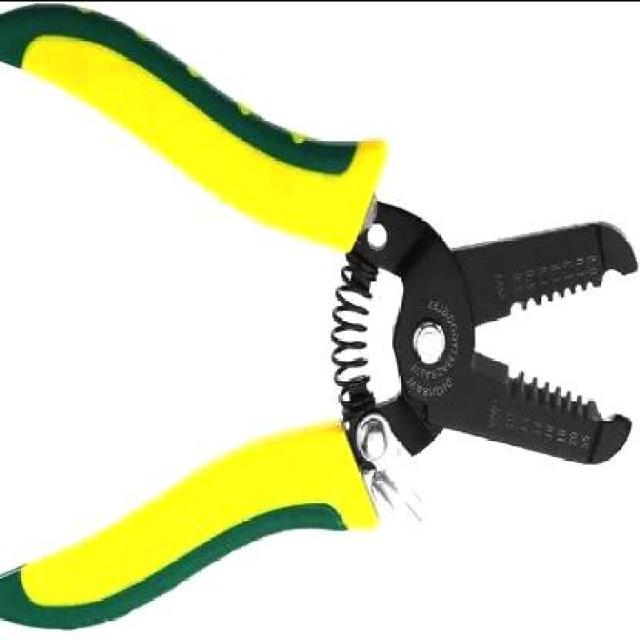pliers: (0, 6, 634, 614)
